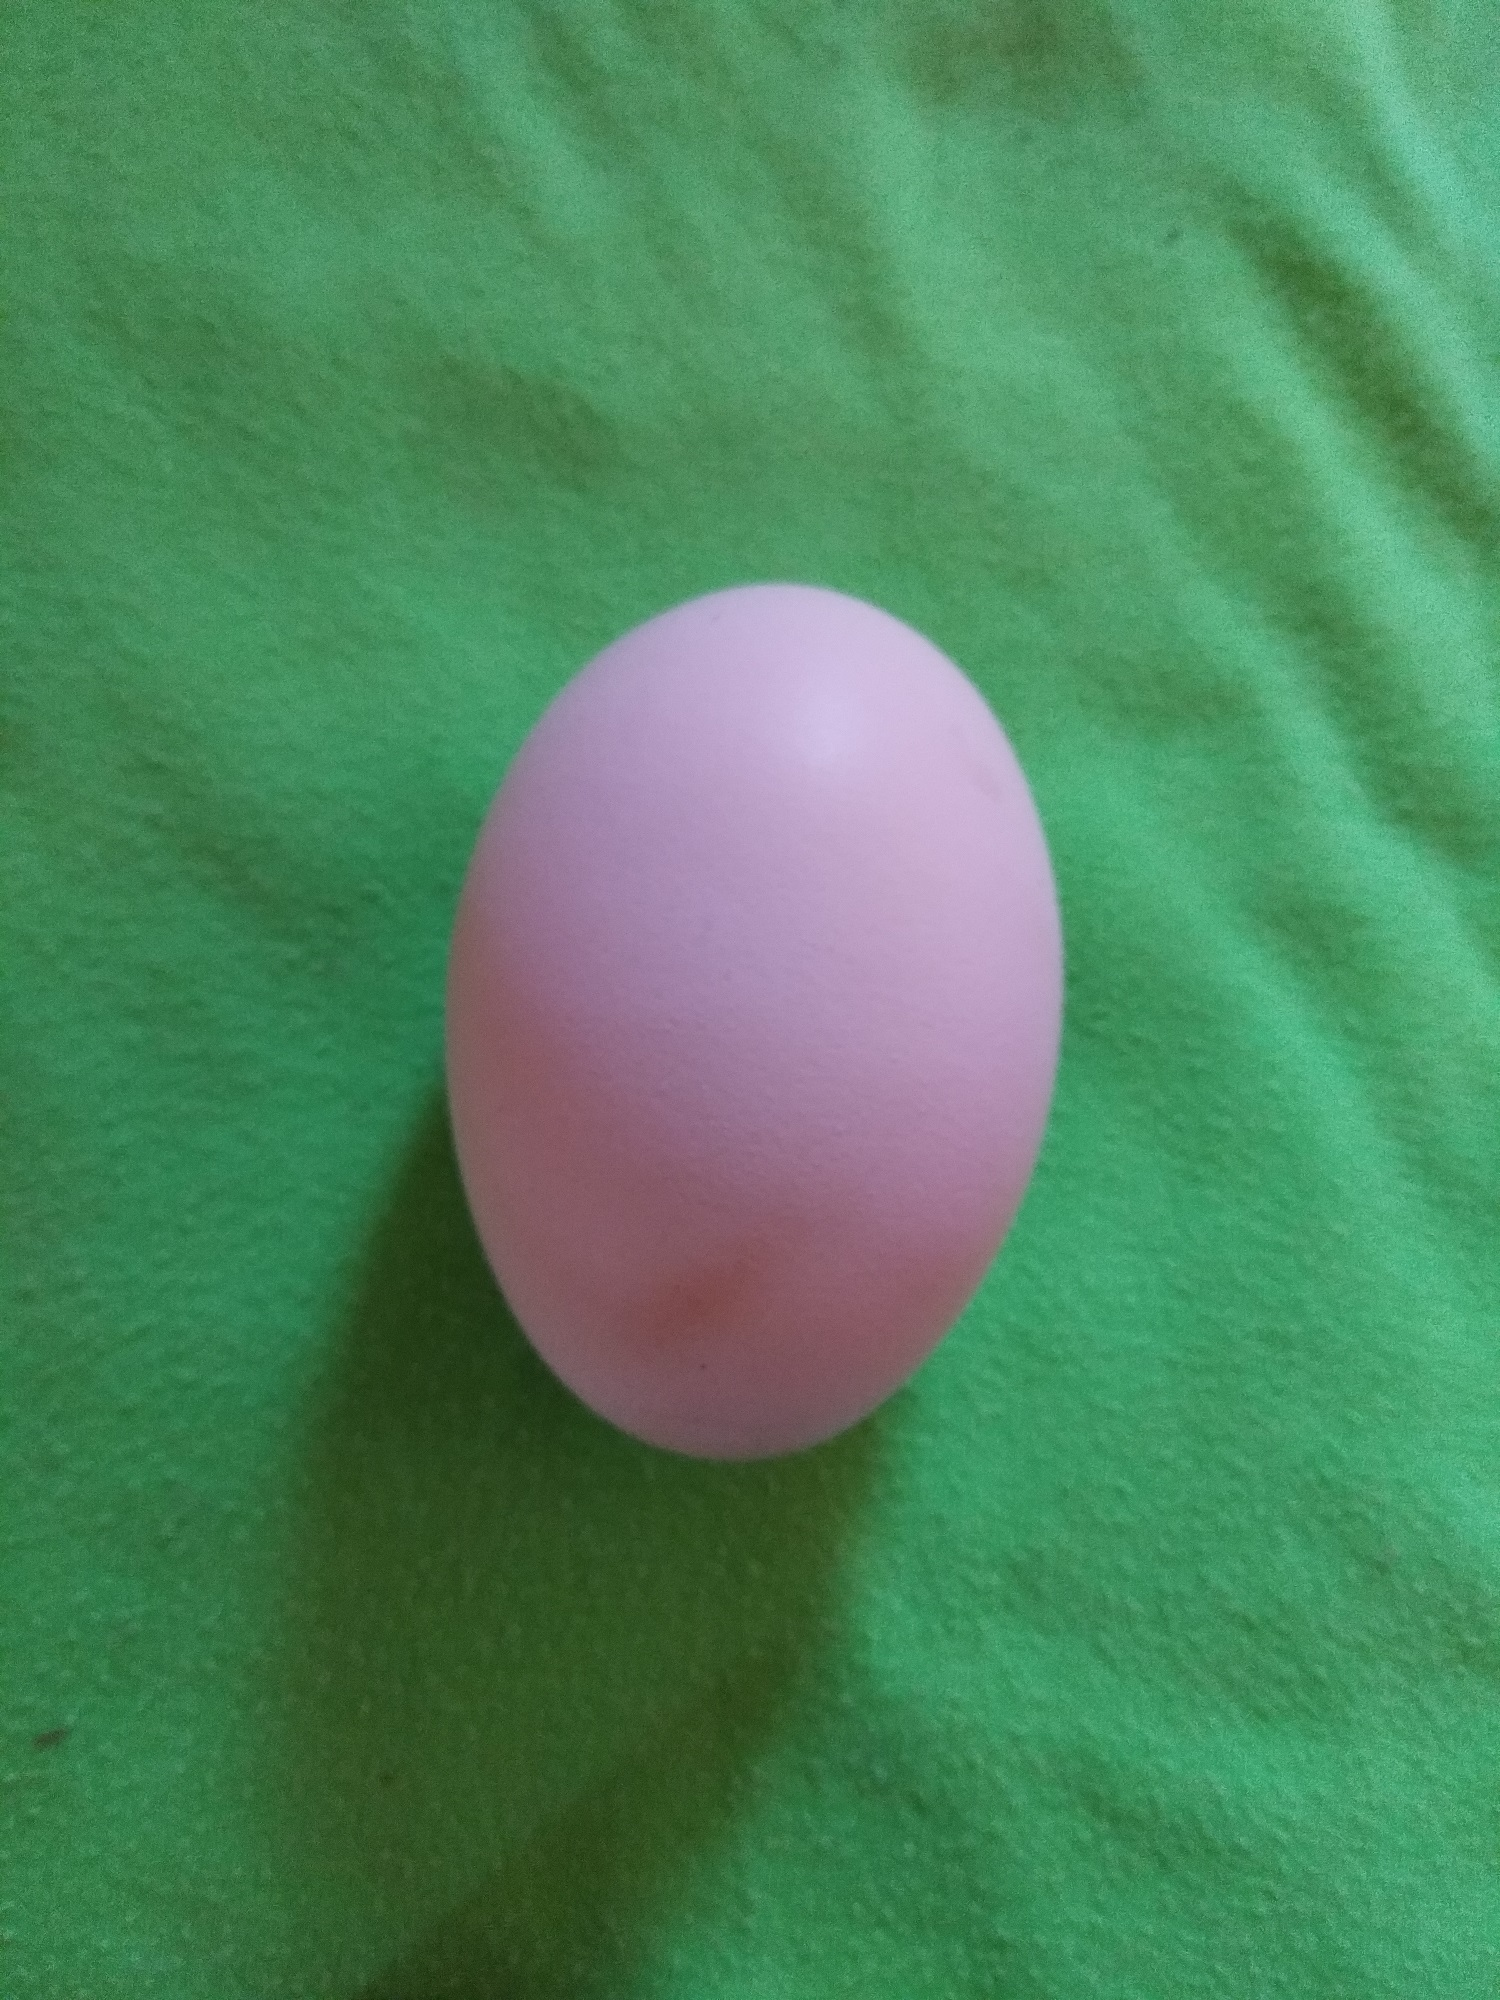Male: (440, 584, 1067, 1469)
